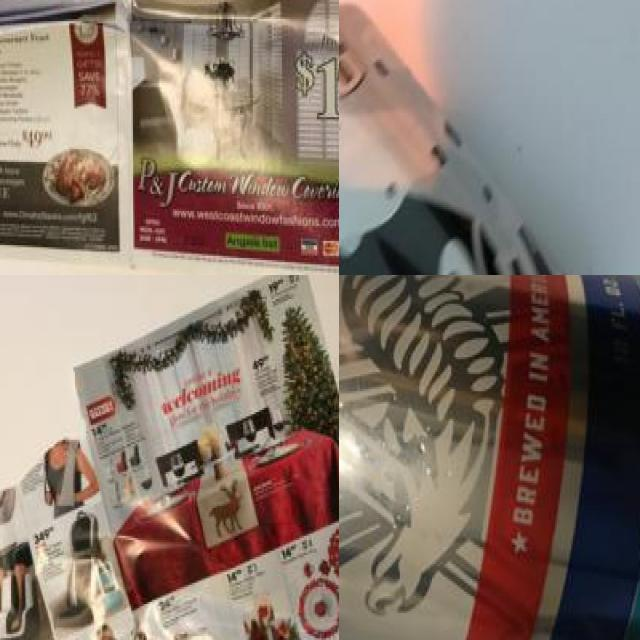paper: (0, 275, 339, 640), (0, 0, 339, 275)
plastic: (339, 275, 640, 640), (339, 0, 633, 275)
